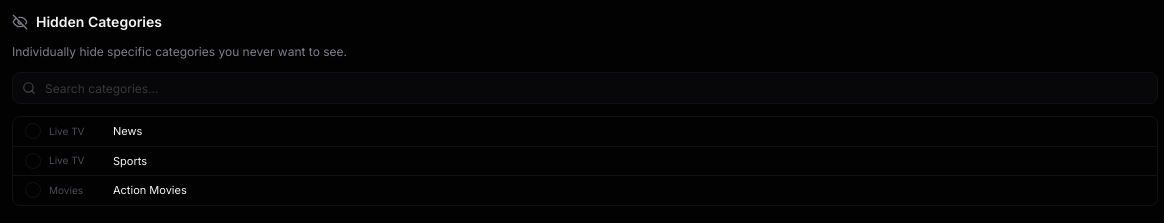
Test: HiddenCategoriesSection › filters categories by search
This screenshot has width=1164, height=223.
In the field with placeholder "Search categories...": (585, 88) [12, 72, 1158, 104], type "News"
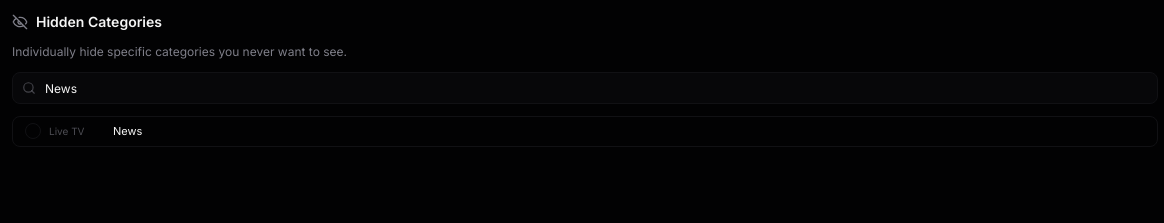
Expected: the text "News" is shown, [113, 123, 142, 140]
Expected: the text "Sports" is gone
